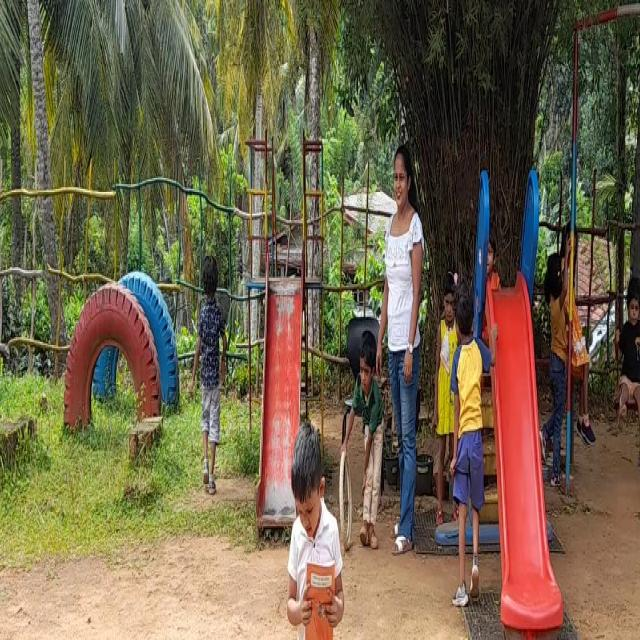adult: (381, 136, 434, 582)
child: (276, 423, 340, 640), (452, 286, 487, 633), (187, 247, 230, 493), (542, 253, 574, 501), (348, 334, 381, 540), (615, 267, 640, 464)
